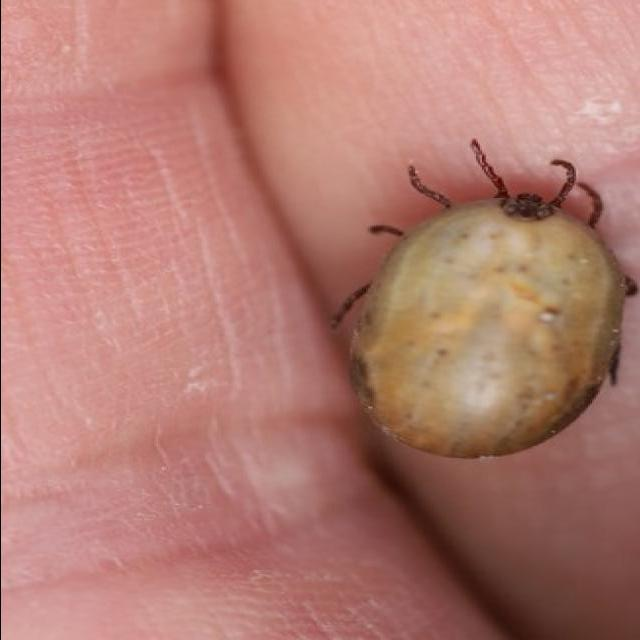Dermacentor Reticulatus-F-Fed: (330, 140, 636, 459)
